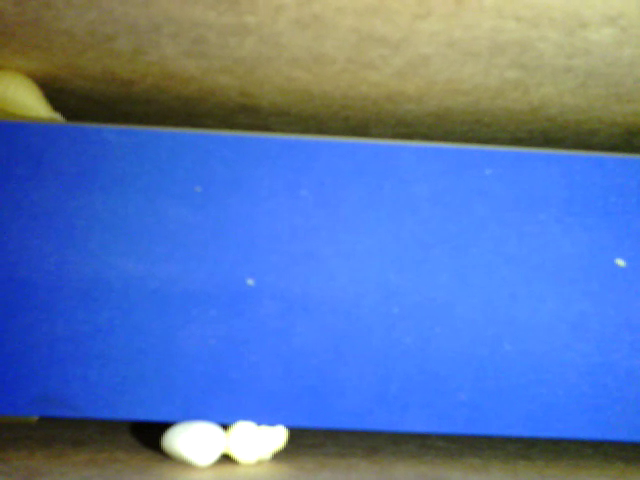shell: (2, 59, 67, 129)
